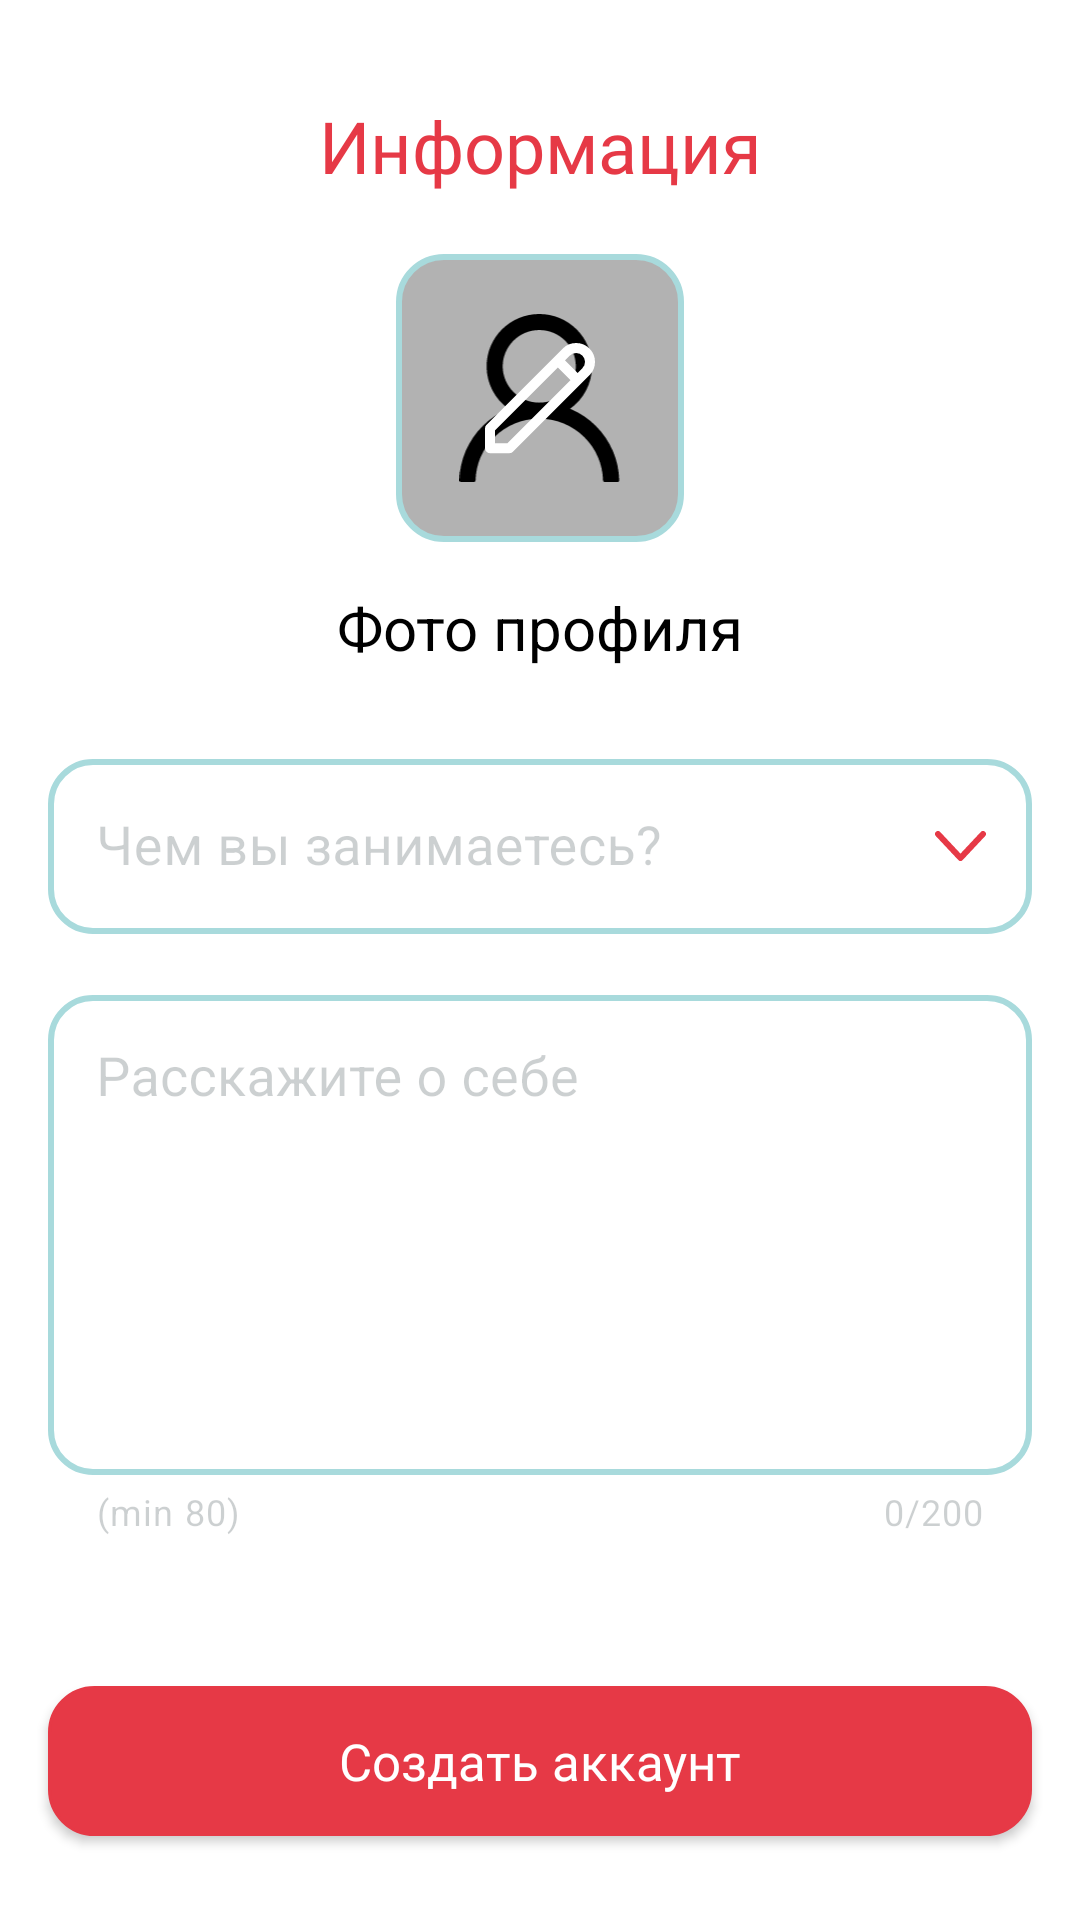

Icons on this 1080 × 1920 Android screen, each with its box as (x1, y1, x2, y2):
edit: (480, 338, 600, 458)
